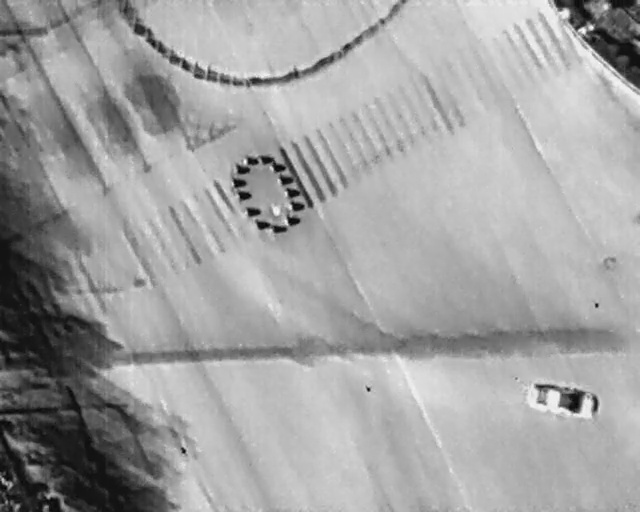Car: (523, 378, 602, 423)
